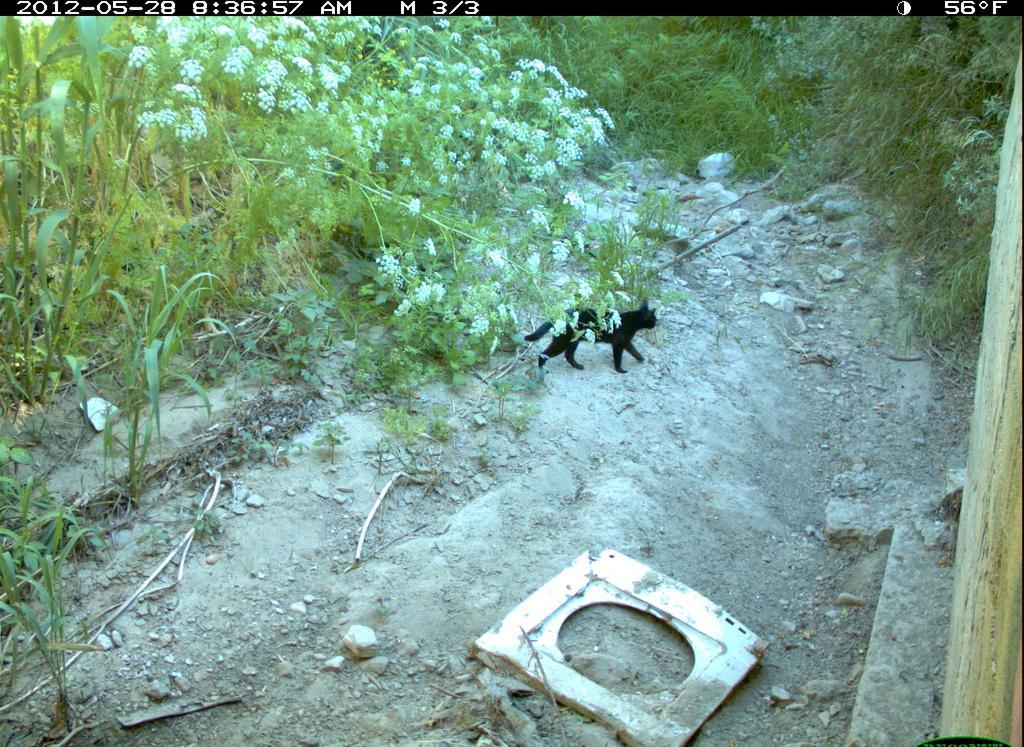cat: (521, 300, 670, 381)
